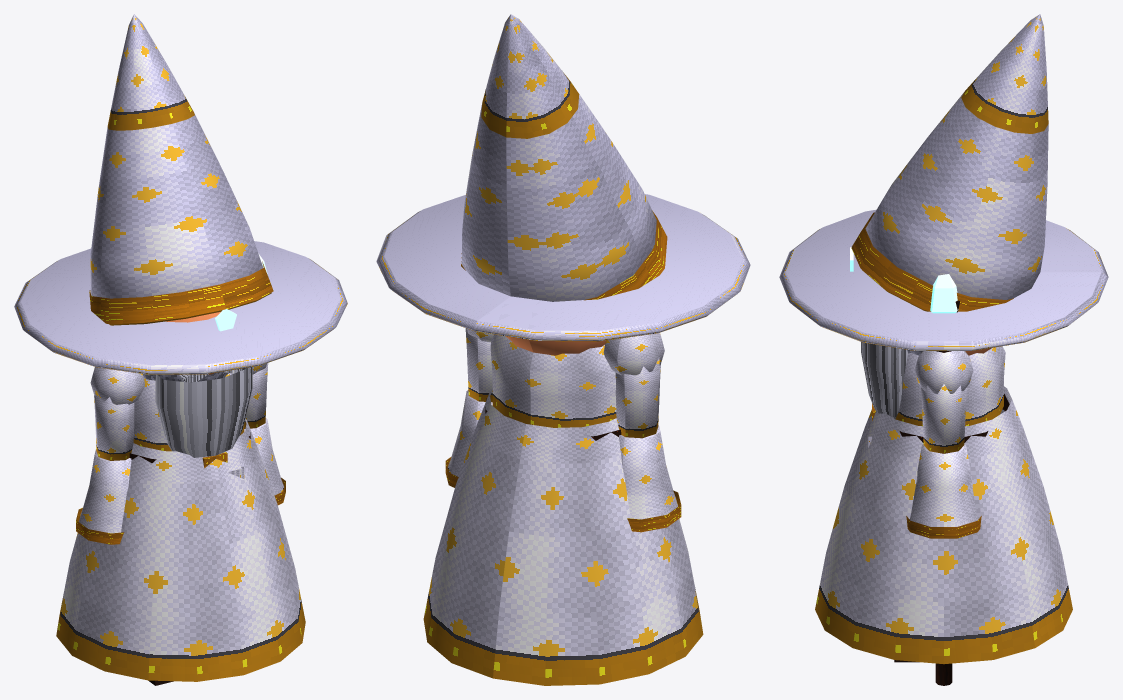
File: magier.glb
3 views of the same model, side by side, from view 1: azimuth 30°, elevation 25°; view 2: azimuth 150°, elevation 25°; view 3: azimuth 270°, elevation 25° (orthographic). The views are drawn at different scales.
Parts seen in each view (by area): view 1: robeSkirt, hatCone, brim, beard, hatBand, sleeve-1, upper-1, robeTop, shoulder-1, sleeve1, upper1, head (+1 smaller); view 2: robeSkirt, hatCone, brim, robeTop, sleeve-1, upper-1, shoulder-1, upper1, hatBand, sleeve1, head, cuff-1; view 3: robeSkirt, hatCone, brim, sleeve1, robeTop, hatBand, upper1, beard, shoulder1, crystal, cuff1.
Boxes of the visible parts, left/top/right/bottom form: robeSkirt: left=56, top=418, right=305, bottom=681; hatCone: left=90, top=14, right=271, bottom=325; brim: left=14, top=241, right=347, bottom=374; beard: left=155, top=367, right=252, bottom=457; hatBand: left=89, top=261, right=273, bottom=324; sleeve-1: left=78, top=449, right=131, bottom=533; upper-1: left=94, top=388, right=134, bottom=460; robeTop: left=133, top=373, right=244, bottom=451; shoulder-1: left=90, top=367, right=144, bottom=404; sleeve1: left=244, top=418, right=284, bottom=495; upper1: left=244, top=363, right=268, bottom=428; head: left=142, top=312, right=228, bottom=381; robeSkirt: left=423, top=389, right=703, bottom=685; hatCone: left=461, top=14, right=656, bottom=301; brim: left=376, top=194, right=750, bottom=341; robeTop: left=490, top=334, right=616, bottom=427; sleeve-1: left=619, top=425, right=678, bottom=519; upper-1: left=615, top=357, right=660, bottom=438; shoulder-1: left=603, top=333, right=664, bottom=375; upper1: left=465, top=328, right=492, bottom=402; hatBand: left=461, top=210, right=667, bottom=300; sleeve1: left=447, top=390, right=492, bottom=476; head: left=506, top=336, right=606, bottom=355; cuff-1: left=627, top=490, right=681, bottom=532; robeSkirt: left=815, top=386, right=1072, bottom=664; hatCone: left=862, top=14, right=1048, bottom=311; brim: left=779, top=209, right=1108, bottom=350; sleeve1: left=909, top=443, right=978, bottom=526; robeTop: left=895, top=346, right=1005, bottom=426; hatBand: left=851, top=212, right=1013, bottom=311; upper1: left=921, top=384, right=966, bottom=453; beard: left=861, top=342, right=907, bottom=418; shoulder1: left=914, top=351, right=973, bottom=393; crystal: left=930, top=274, right=958, bottom=313; cuff1: left=906, top=516, right=981, bottom=538.
Bounding box in the file's own units: 1.85 × 3.81 × 1.79.
11 materials, 10 textured.
